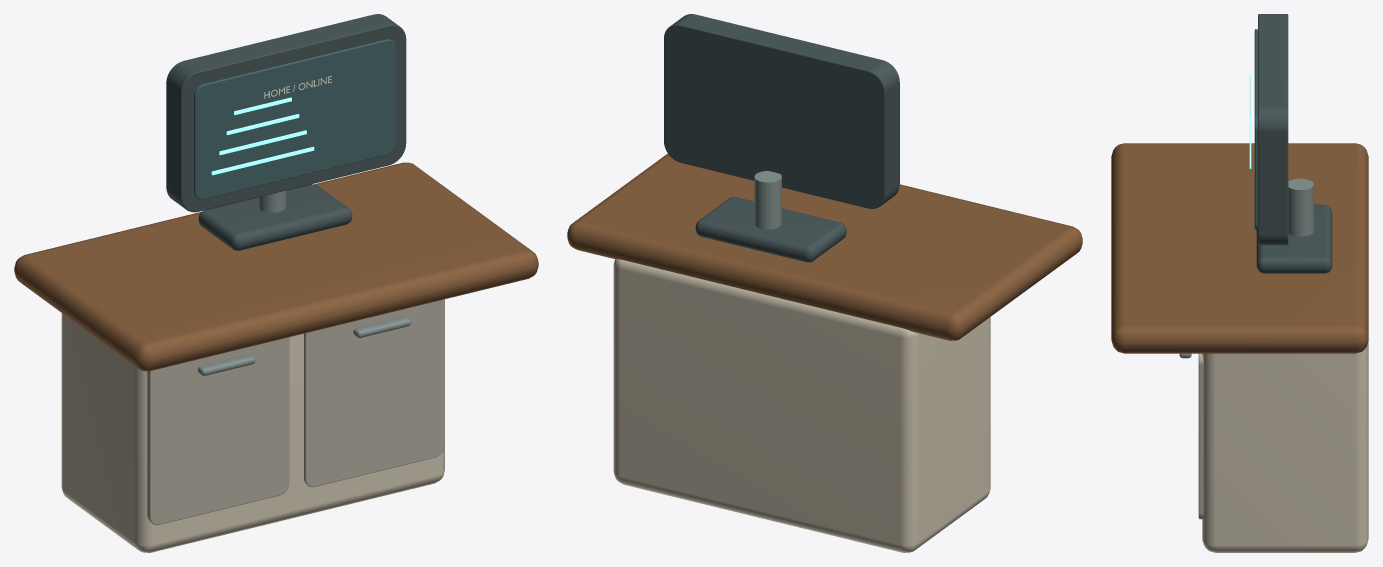
File: interior-console.glb
The picture shows the model from 3 angles, left to right: view 1: azimuth 30°, elevation 25°; view 2: azimuth 150°, elevation 25°; view 3: azimuth 270°, elevation 25°; orthographic projection. The views are drawn at different scales.
Visible parts, largest first — view 1: interior-console / 15 • interior timber, interior-console / 02 • inner shell, interior-console / 01 • warm porcelain paint, interior-console / 10 • slate upholstery, interior-console / 06 • dark anodized frame, interior-console / 05 • brushed titanium, interior-console / 08 • cyan indicator; view 2: interior-console / 01 • warm porcelain paint, interior-console / 15 • interior timber, interior-console / 06 • dark anodized frame, interior-console / 05 • brushed titanium; view 3: interior-console / 15 • interior timber, interior-console / 01 • warm porcelain paint, interior-console / 06 • dark anodized frame, interior-console / 05 • brushed titanium, interior-console / 02 • inner shell, interior-console / 10 • slate upholstery.
Part boxes in pixels (x1,y1,x2,y2): interior-console / 15 • interior timber: (14,162,538,371); interior-console / 02 • inner shell: (147,299,444,525); interior-console / 01 • warm porcelain paint: (61,299,444,552); interior-console / 10 • slate upholstery: (194,39,395,199); interior-console / 06 • dark anodized frame: (166,14,406,250); interior-console / 05 • brushed titanium: (197,190,410,375); interior-console / 08 • cyan indicator: (211,97,314,175); interior-console / 01 • warm porcelain paint: (613,259,990,552); interior-console / 15 • interior timber: (567,153,1082,340); interior-console / 06 • dark anodized frame: (664,14,899,262); interior-console / 05 • brushed titanium: (754,171,781,229); interior-console / 15 • interior timber: (1111,143,1368,353); interior-console / 01 • warm porcelain paint: (1202,341,1368,552); interior-console / 06 • dark anodized frame: (1256,14,1332,273); interior-console / 05 • brushed titanium: (1179,178,1313,358); interior-console / 02 • inner shell: (1198,353,1203,519); interior-console / 10 • slate upholstery: (1254,29,1257,230).
Size of the model in its own units: 1.5 by 1.59 by 0.85.
